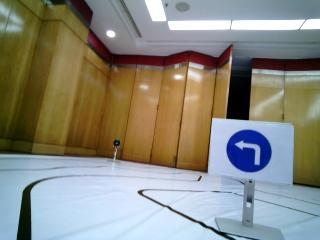left: (215, 120, 286, 177)
